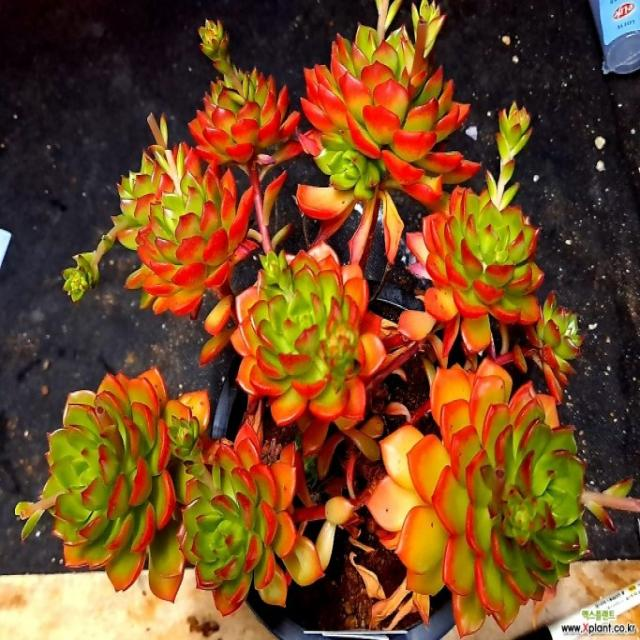Letizia: (368, 362, 588, 633), (298, 0, 479, 262), (16, 367, 210, 601), (170, 415, 322, 615), (231, 243, 386, 427), (189, 20, 301, 253), (115, 143, 256, 315), (406, 188, 544, 353), (526, 292, 584, 403), (486, 102, 531, 210)
